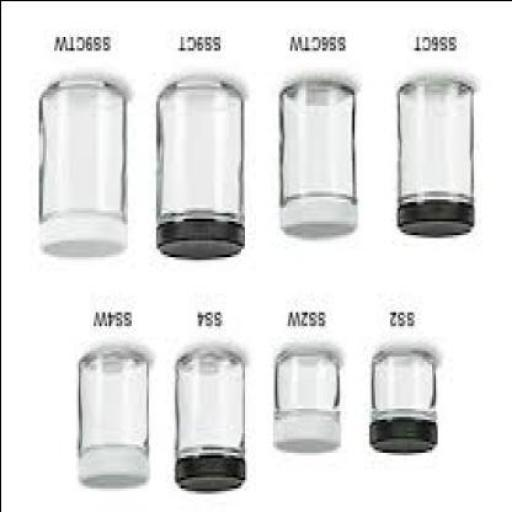glass: (156, 80, 244, 223), (40, 80, 125, 224), (279, 80, 356, 203), (398, 82, 472, 207), (79, 350, 151, 460), (177, 353, 246, 457), (370, 349, 436, 421), (276, 350, 342, 418)
metal: (43, 215, 127, 259), (281, 196, 358, 242), (80, 445, 150, 490), (159, 223, 247, 258), (178, 453, 248, 493), (398, 201, 475, 237), (370, 419, 439, 454), (274, 421, 341, 454)
